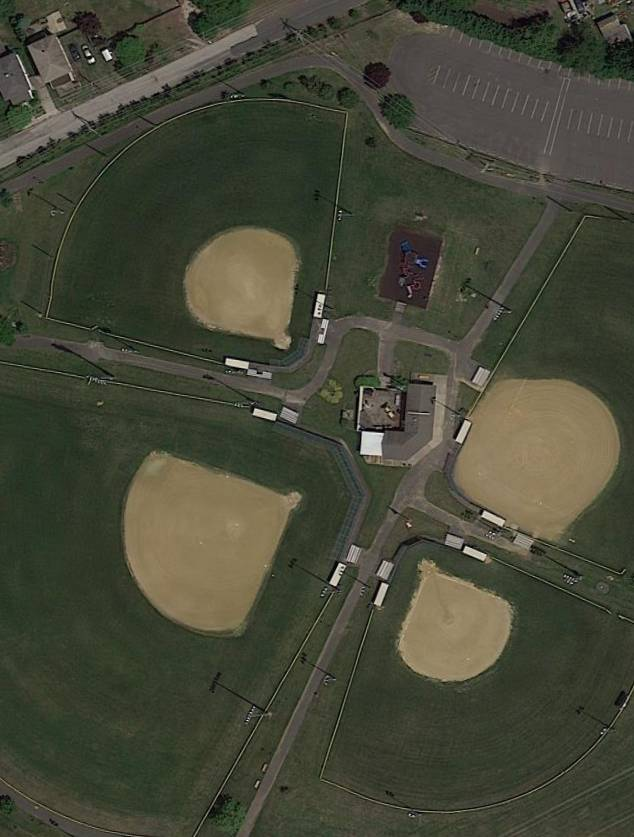baseball diamond: (89, 446, 291, 646), (480, 379, 620, 519), (396, 573, 521, 699), (179, 219, 296, 340)
